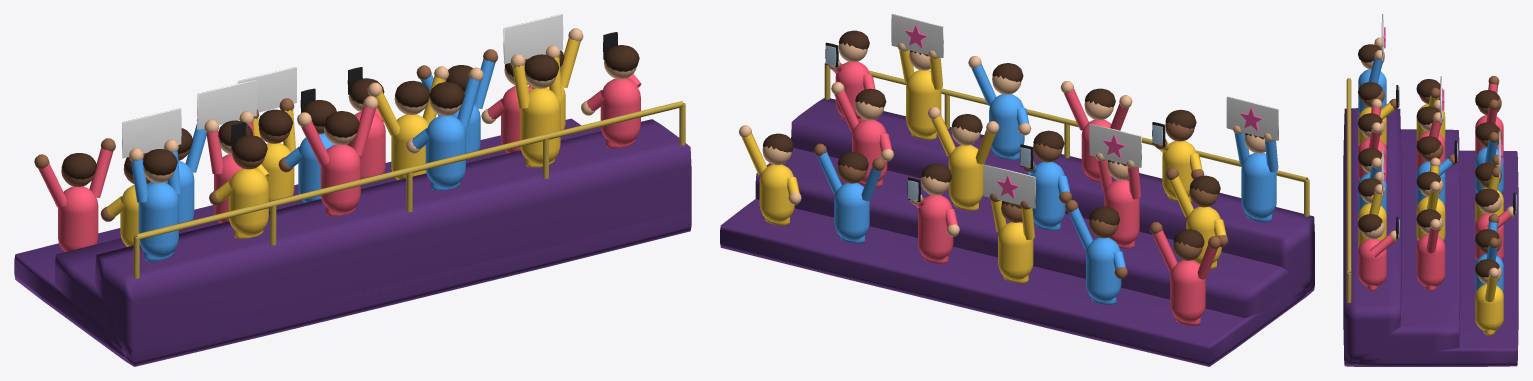
File: SlaparazziCrowd.obj
3 views of the same model, side by side, from view 1: azimuth 30°, elevation 25°; view 2: azimuth 150°, elevation 25°; view 3: azimuth 270°, elevation 25° (orthographic). The views are drawn at different scales.
Visible parts, largest first — view 1: Riser, ShirtA, ShirtC, ShirtB, Hair, Sign, Rail, SkinA, SkinB, Phone; view 2: Riser, ShirtC, ShirtB, ShirtA, Sign, Hair, SkinA, SkinB, Rail, SignStar, Screen, Phone; view 3: Riser, Hair, ShirtA, ShirtC, ShirtB, SkinA, SkinB, Rail, Sign, Phone, SignStar.
Part boxes in pixels (box(x1,y1,x2,y2)): Riser: box(14, 118, 691, 366); ShirtA: box(38, 54, 641, 252); ShirtC: box(106, 38, 580, 247); ShirtB: box(131, 58, 495, 261); Hair: box(61, 45, 639, 179); Sign: box(122, 14, 563, 158); Rail: box(133, 101, 685, 278); SkinA: box(129, 28, 636, 182); SkinB: box(34, 49, 497, 221); Phone: box(231, 32, 617, 150); Riser: box(720, 98, 1314, 366); ShirtC: box(742, 50, 1226, 283); ShirtB: box(816, 63, 1278, 304); ShirtA: box(832, 61, 1217, 325); Sign: box(891, 14, 1278, 208); Hair: box(763, 30, 1263, 248); SkinA: box(738, 43, 1274, 236); SkinB: box(813, 122, 1228, 279); Rail: box(824, 62, 1309, 216); SignStar: box(905, 24, 1262, 199); Screen: box(825, 45, 1162, 200); Phone: box(825, 42, 1165, 202); Riser: box(1343, 108, 1518, 366); Hair: box(1358, 44, 1499, 277); ShirtA: box(1358, 83, 1511, 291); ShirtC: box(1358, 95, 1503, 335); ShirtB: box(1358, 47, 1503, 291); SkinA: box(1360, 37, 1516, 293); SkinB: box(1360, 76, 1501, 254); Rail: box(1346, 78, 1351, 302); Sign: box(1381, 14, 1500, 194); Phone: box(1396, 85, 1515, 239); SignStar: box(1384, 27, 1502, 182).
Size of the model in its own units: 16 by 6.15 by 6.
